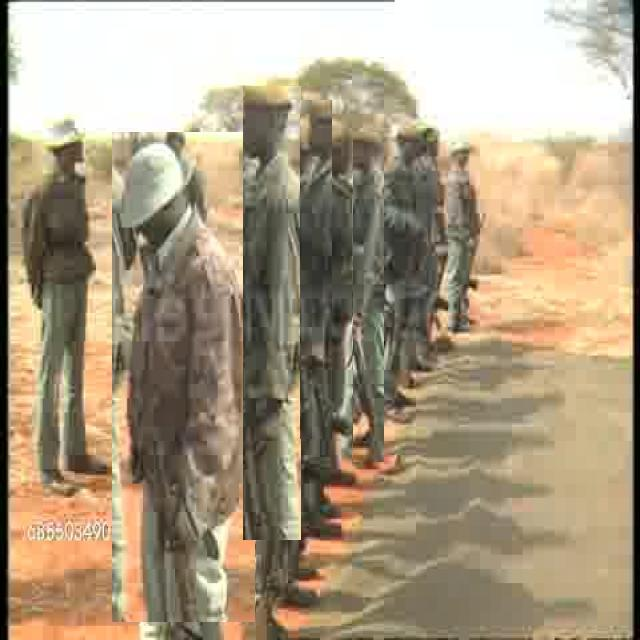poacher: (112, 132, 255, 622), (2, 101, 110, 498), (243, 86, 301, 540), (300, 100, 332, 439), (353, 132, 384, 462), (446, 141, 490, 327), (392, 130, 419, 403)
